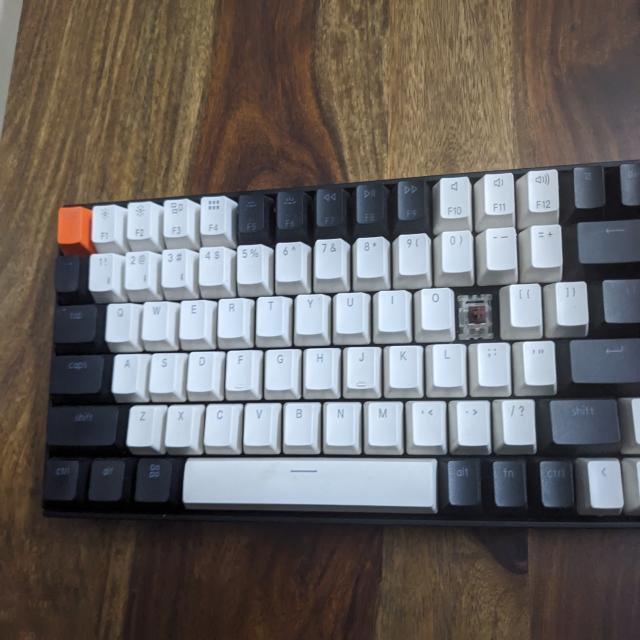key-switch: (456, 292, 499, 339), (454, 289, 493, 338)
